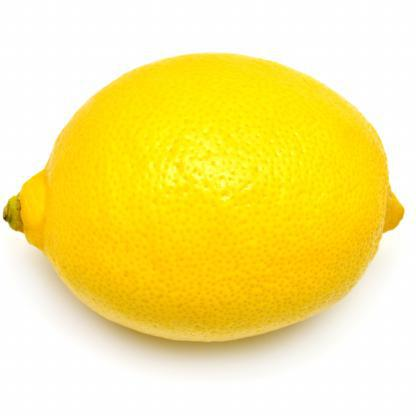lemon: (2, 49, 408, 352)
